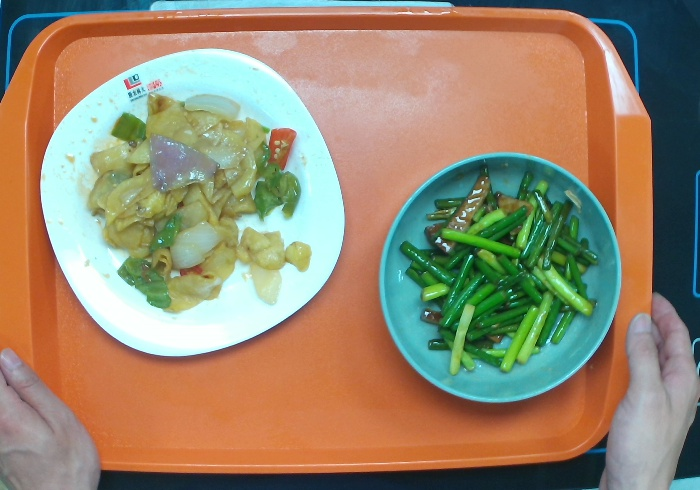ZNLD-Qing_Hua_Yuan_Wan: (376, 150, 624, 404)
ZNLD-Yuan_Jiao_Pan: (39, 45, 347, 357)
